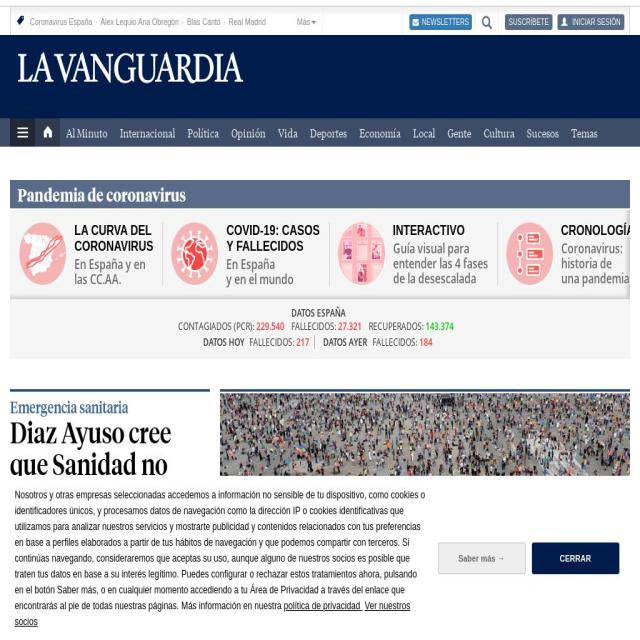button: (18, 52, 244, 86), (393, 222, 488, 286), (560, 222, 634, 286), (438, 542, 526, 574), (532, 542, 620, 574), (557, 14, 625, 31), (410, 14, 472, 31), (165, 272, 221, 288), (331, 272, 387, 288), (499, 272, 555, 288), (13, 272, 68, 288), (120, 127, 175, 139), (66, 127, 108, 139), (360, 127, 400, 139), (310, 127, 347, 139), (231, 127, 266, 139), (527, 127, 559, 139), (188, 127, 218, 139), (484, 127, 514, 139), (572, 127, 598, 139), (448, 127, 472, 139), (413, 127, 435, 139), (278, 127, 298, 139)
heading: (10, 412, 176, 576), (228, 600, 518, 638)
image: (220, 392, 630, 640), (18, 52, 244, 84), (171, 223, 219, 285), (337, 223, 385, 285), (19, 223, 66, 285), (506, 223, 553, 285), (228, 565, 240, 583)
link: (284, 599, 363, 612), (92, 16, 179, 26), (30, 16, 92, 26), (220, 16, 266, 26), (179, 16, 221, 26)
text: (14, 488, 426, 612), (14, 599, 412, 628), (228, 586, 622, 603), (10, 596, 210, 627), (10, 180, 192, 208), (10, 397, 210, 416), (393, 254, 488, 273), (392, 269, 477, 288), (240, 565, 328, 583), (226, 222, 321, 238), (393, 222, 488, 238), (392, 239, 470, 258), (560, 269, 630, 288), (74, 255, 146, 273), (74, 238, 154, 254), (74, 222, 152, 238), (227, 238, 304, 254), (227, 270, 294, 288), (560, 222, 634, 238), (560, 239, 622, 258), (178, 319, 256, 333), (560, 254, 612, 273), (226, 255, 276, 273), (75, 270, 122, 288), (505, 14, 553, 31), (368, 319, 426, 333), (10, 118, 35, 147), (35, 118, 60, 147), (10, 579, 59, 593), (291, 319, 338, 333), (249, 335, 296, 349), (372, 335, 419, 349), (572, 16, 620, 29), (291, 308, 346, 319), (458, 552, 505, 563), (322, 337, 368, 348), (202, 337, 245, 348), (422, 18, 469, 28), (256, 319, 284, 333), (426, 319, 454, 333), (560, 552, 592, 563), (338, 319, 362, 333), (296, 335, 310, 349), (418, 335, 432, 349), (297, 16, 311, 26), (199, 632, 207, 640), (227, 639, 287, 640)
